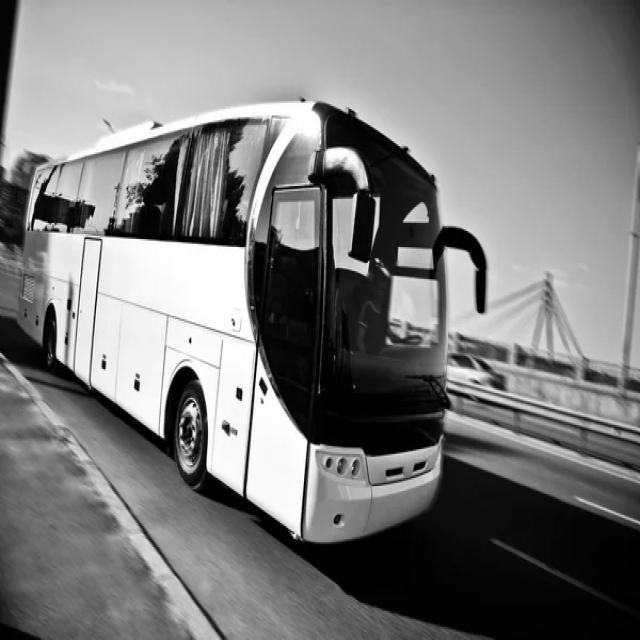Bus: (17, 101, 488, 543)
